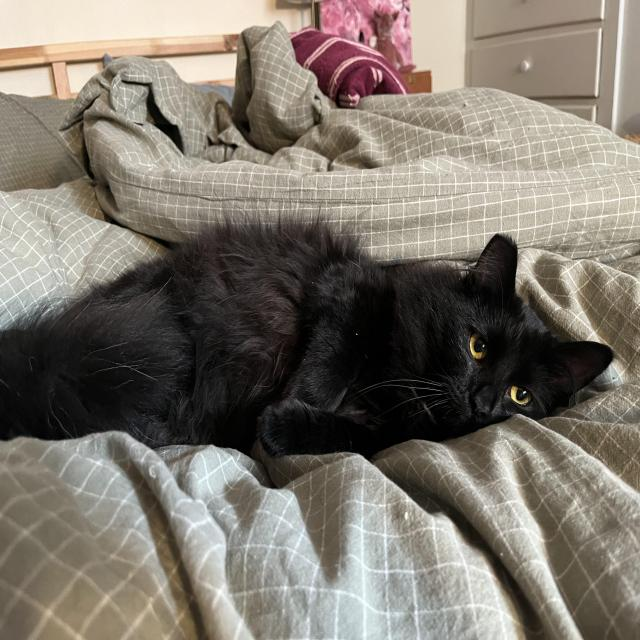domestic_long_hair_cat: (414, 230, 617, 451)
